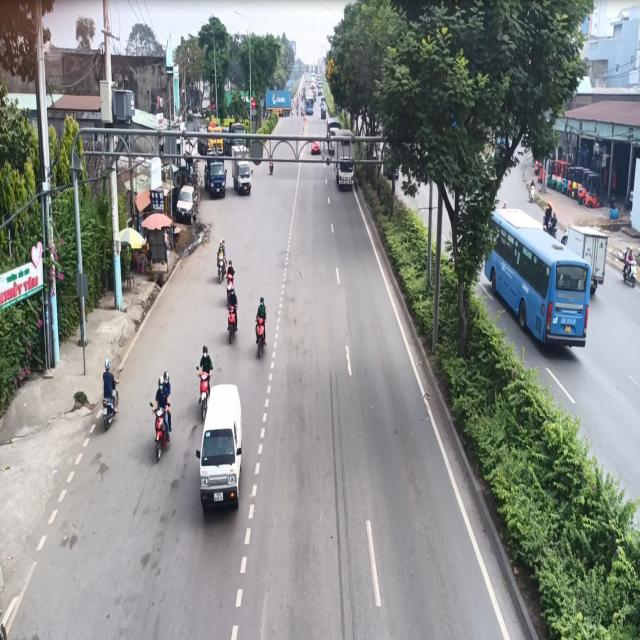car: (199, 380, 242, 514)
motorbike: (147, 361, 175, 466), (95, 350, 118, 429), (251, 292, 271, 358), (196, 340, 210, 419), (216, 237, 227, 289)
